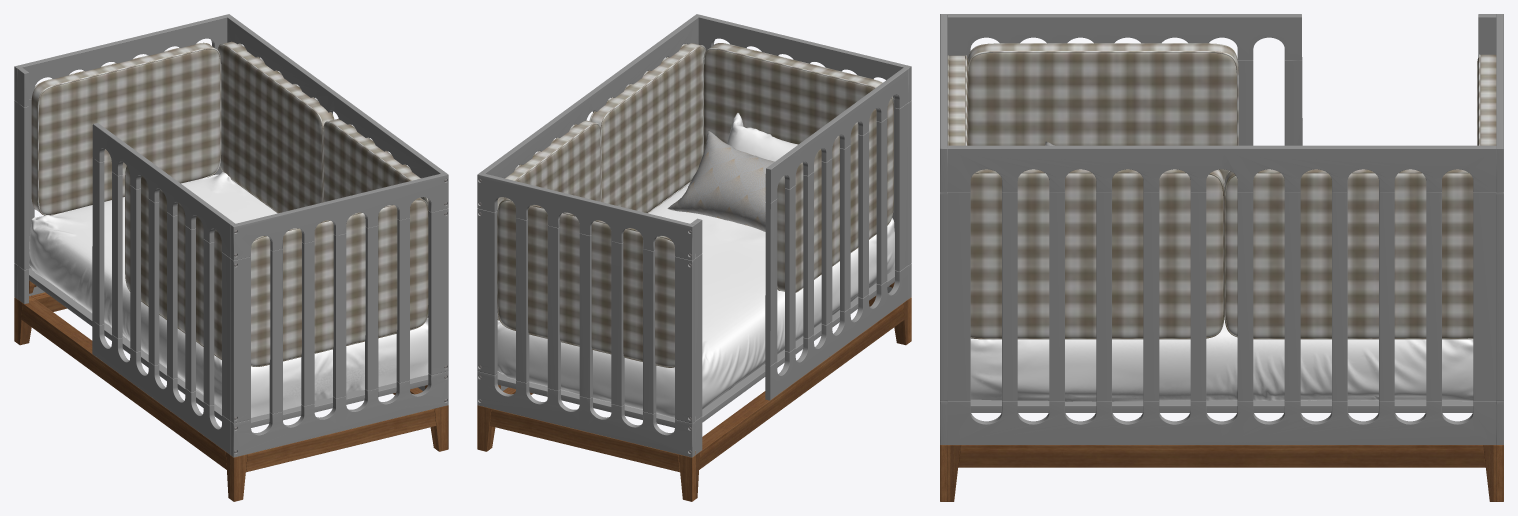
Rendered from baby_bed_with_mattress_guard.glb.
The picture shows the model from 3 angles, left to right: view 1: azimuth 30°, elevation 25°; view 2: azimuth 150°, elevation 25°; view 3: azimuth 270°, elevation 25°; orthographic projection. The views are drawn at different scales.
Parts seen in each view (by area): view 1: Cube.003_3, Cube.002_2, cover bed 01.002_11, f3d0016__7, cover bed 01.005_14, cover bed 01.003_12, Cube.005_4, cover bed 01.006_15, cover bed 01.004_13, Cube_0, Cube.001_1; view 2: Cube.003_3, Cube.002_2, f3d0016__7, cover bed 01.002_11, cover bed 01.004_13, cover bed 01.005_14, Cube.005_4, cover bed 01.006_15, travesseiro.003_9, cover bed 01.003_12, Cube_0, Cube.001_1 (+1 smaller); view 3: Cube.003_3, cover bed 01.004_13, cover bed 01.003_12, cover bed 01.006_15, f3d0016__7, Cube.005_4, Cube.002_2, Cube_0, cover bed 01.005_14, cover bed 01.002_11, Cube.001_1.
Part boxes in pixels (bbox=[...]): Cube.003_3: bbox=[14, 14, 448, 457]; Cube.002_2: bbox=[92, 123, 235, 455]; cover bed 01.002_11: bbox=[31, 42, 221, 215]; f3d0016__7: bbox=[29, 172, 428, 417]; cover bed 01.005_14: bbox=[251, 197, 428, 366]; cover bed 01.003_12: bbox=[218, 41, 334, 213]; Cube.005_4: bbox=[14, 292, 448, 501]; cover bed 01.006_15: bbox=[125, 166, 221, 359]; cover bed 01.004_13: bbox=[323, 118, 428, 317]; Cube_0: bbox=[29, 268, 428, 427]; Cube.001_1: bbox=[17, 67, 28, 303]; Cube.003_3: bbox=[477, 14, 911, 457]; Cube.002_2: bbox=[765, 67, 908, 400]; f3d0016__7: bbox=[497, 183, 894, 418]; cover bed 01.002_11: bbox=[497, 198, 674, 367]; cover bed 01.004_13: bbox=[589, 43, 705, 213]; cover bed 01.005_14: bbox=[703, 43, 893, 153]; Cube.005_4: bbox=[477, 296, 911, 501]; cover bed 01.006_15: bbox=[777, 97, 893, 292]; travesseiro.003_9: bbox=[667, 130, 774, 231]; cover bed 01.003_12: bbox=[497, 120, 600, 320]; Cube_0: bbox=[497, 269, 894, 427]; Cube.001_1: bbox=[690, 218, 702, 455]; Cube.003_3: bbox=[940, 14, 1503, 444]; cover bed 01.004_13: bbox=[970, 169, 1224, 339]; cover bed 01.003_12: bbox=[1224, 169, 1473, 339]; cover bed 01.006_15: bbox=[967, 43, 1238, 185]; f3d0016__7: bbox=[970, 317, 1473, 401]; Cube.005_4: bbox=[940, 445, 1503, 501]; Cube.002_2: bbox=[947, 14, 1302, 145]; Cube_0: bbox=[970, 399, 1473, 412]; cover bed 01.005_14: bbox=[947, 55, 968, 145]; cover bed 01.002_11: bbox=[1477, 54, 1496, 145]; Cube.001_1: bbox=[1478, 14, 1496, 56].
Bounding box in the file's own units: 0.7587 × 0.9275 × 1.34.
7 materials, 4 textured.
